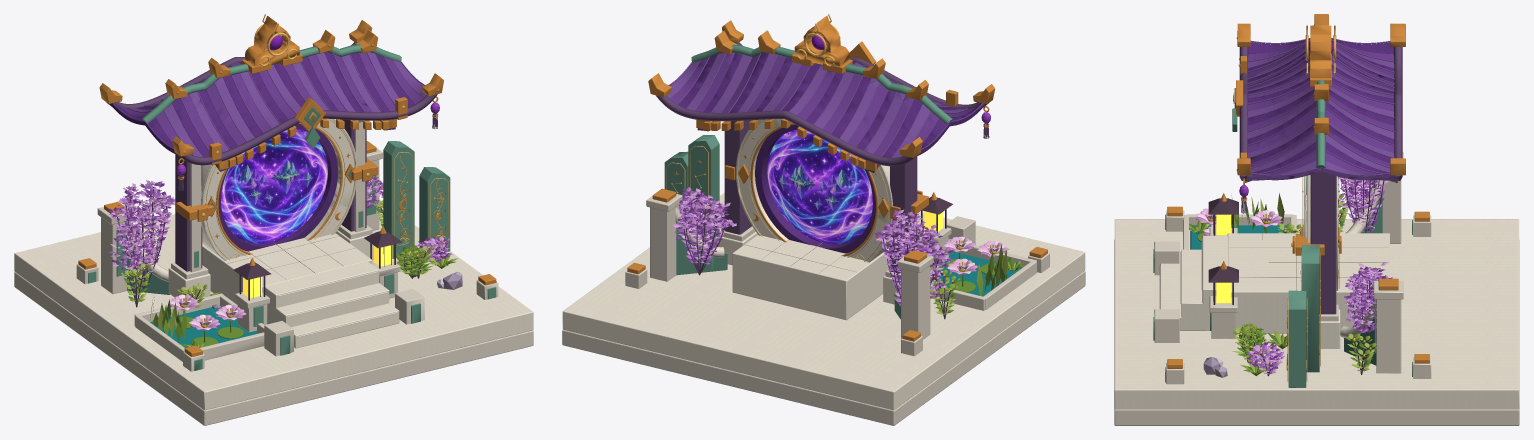
Rendered from secret-lod0-eb56b1ee5b4c.glb.
3 views of the same model, side by side, from view 1: azimuth 30°, elevation 25°; view 2: azimuth 150°, elevation 25°; view 3: azimuth 270°, elevation 25° (orthographic). The views are drawn at different scales.
Visible parts, largest first — view 1: GEO-export-MAT-secret-stone-light.008, GEO-export-MAT-secret-ivory.008, GEO-export-MAT-secret-gold.008, GEO-export-MAT-secret-jade-light.008, GEO-export-MAT-secret-portal-field.008, GEO-export-MAT-secret-roof-purple-0.008, GEO-export-MAT-secret-roof-purple-2.008, GEO-export-MAT-secret-purple-wood.008, GEO-export-MAT-secret-roof-purple-1.008, GEO-export-MAT-secret-gold-edge.008, GEO-export-MAT-secret-bloom-foliage-3.008, GEO-export-MAT-secret-bloom-foliage-2.008 (+11 smaller); view 2: GEO-export-MAT-secret-stone-light.008, GEO-export-MAT-secret-ivory.008, GEO-export-MAT-secret-portal-field.008, GEO-export-MAT-secret-gold.008, GEO-export-MAT-secret-roof-purple-0.008, GEO-export-MAT-secret-purple-wood.008, GEO-export-MAT-secret-roof-purple-2.008, GEO-export-MAT-secret-roof-purple-1.008, GEO-export-MAT-secret-jade-light.008, GEO-export-MAT-secret-bloom-foliage-2.008, GEO-export-MAT-secret-bloom-foliage-3.008, GEO-export-MAT-secret-bloom-foliage-1.008 (+7 smaller); view 3: GEO-export-MAT-secret-stone-light.008, GEO-export-MAT-secret-ivory.008, GEO-export-MAT-secret-roof-purple-2.008, GEO-export-MAT-secret-roof-purple-0.008, GEO-export-MAT-secret-purple-wood.008, GEO-export-MAT-secret-roof-purple-1.008, GEO-export-MAT-secret-gold.008, GEO-export-MAT-secret-jade-light.008, GEO-export-MAT-secret-bloom-foliage-3.008, GEO-export-MAT-secret-gold-edge.008, GEO-export-MAT-secret-bloom-foliage-0.008, GEO-export-MAT-secret-dark-bronze.008 (+8 smaller).
Boxes of the visible parts, bbox=[...] form: GEO-export-MAT-secret-stone-light.008: bbox=[14, 118, 533, 410]; GEO-export-MAT-secret-ivory.008: bbox=[14, 119, 533, 425]; GEO-export-MAT-secret-gold.008: bbox=[78, 16, 496, 356]; GEO-export-MAT-secret-jade-light.008: bbox=[88, 44, 496, 370]; GEO-export-MAT-secret-portal-field.008: bbox=[221, 128, 327, 243]; GEO-export-MAT-secret-roof-purple-0.008: bbox=[110, 52, 414, 251]; GEO-export-MAT-secret-roof-purple-2.008: bbox=[112, 52, 426, 156]; GEO-export-MAT-secret-purple-wood.008: bbox=[106, 42, 439, 307]; GEO-export-MAT-secret-roof-purple-1.008: bbox=[120, 52, 422, 154]; GEO-export-MAT-secret-gold-edge.008: bbox=[201, 14, 448, 260]; GEO-export-MAT-secret-bloom-foliage-3.008: bbox=[110, 179, 443, 274]; GEO-export-MAT-secret-bloom-foliage-2.008: bbox=[109, 179, 449, 277]; GEO-export-MAT-secret-stone-light.008: bbox=[562, 119, 1085, 410]; GEO-export-MAT-secret-ivory.008: bbox=[562, 119, 1085, 425]; GEO-export-MAT-secret-portal-field.008: bbox=[767, 129, 872, 244]; GEO-export-MAT-secret-gold.008: bbox=[627, 15, 1047, 341]; GEO-export-MAT-secret-roof-purple-0.008: bbox=[678, 52, 984, 253]; GEO-export-MAT-secret-purple-wood.008: bbox=[656, 42, 989, 319]; GEO-export-MAT-secret-roof-purple-2.008: bbox=[666, 52, 983, 157]; GEO-export-MAT-secret-roof-purple-1.008: bbox=[670, 53, 974, 156]; GEO-export-MAT-secret-jade-light.008: bbox=[664, 44, 952, 246]; GEO-export-MAT-secret-bloom-foliage-2.008: bbox=[675, 187, 950, 301]; GEO-export-MAT-secret-bloom-foliage-3.008: bbox=[673, 188, 949, 298]; GEO-export-MAT-secret-bloom-foliage-1.008: bbox=[674, 190, 952, 305]; GEO-export-MAT-secret-stone-light.008: bbox=[1114, 175, 1519, 409]; GEO-export-MAT-secret-ivory.008: bbox=[1114, 152, 1519, 425]; GEO-export-MAT-secret-roof-purple-2.008: bbox=[1246, 38, 1397, 180]; GEO-export-MAT-secret-roof-purple-0.008: bbox=[1247, 39, 1394, 173]; GEO-export-MAT-secret-purple-wood.008: bbox=[1239, 47, 1402, 376]; GEO-export-MAT-secret-roof-purple-1.008: bbox=[1246, 41, 1395, 180]; GEO-export-MAT-secret-gold.008: bbox=[1167, 14, 1429, 368]; GEO-export-MAT-secret-jade-light.008: bbox=[1153, 80, 1412, 387]; GEO-export-MAT-secret-bloom-foliage-3.008: bbox=[1248, 178, 1388, 368]; GEO-export-MAT-secret-gold-edge.008: bbox=[1238, 25, 1339, 381]; GEO-export-MAT-secret-bloom-foliage-0.008: bbox=[1247, 176, 1392, 368]; GEO-export-MAT-secret-dark-bronze.008: bbox=[1208, 198, 1238, 304].
Bounding box in the file's own units: 10 × 8.59 × 10.
Materials: 44 (7 with a texture image).
